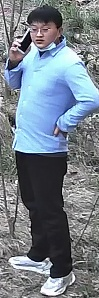phone: (1, 3, 67, 96)
